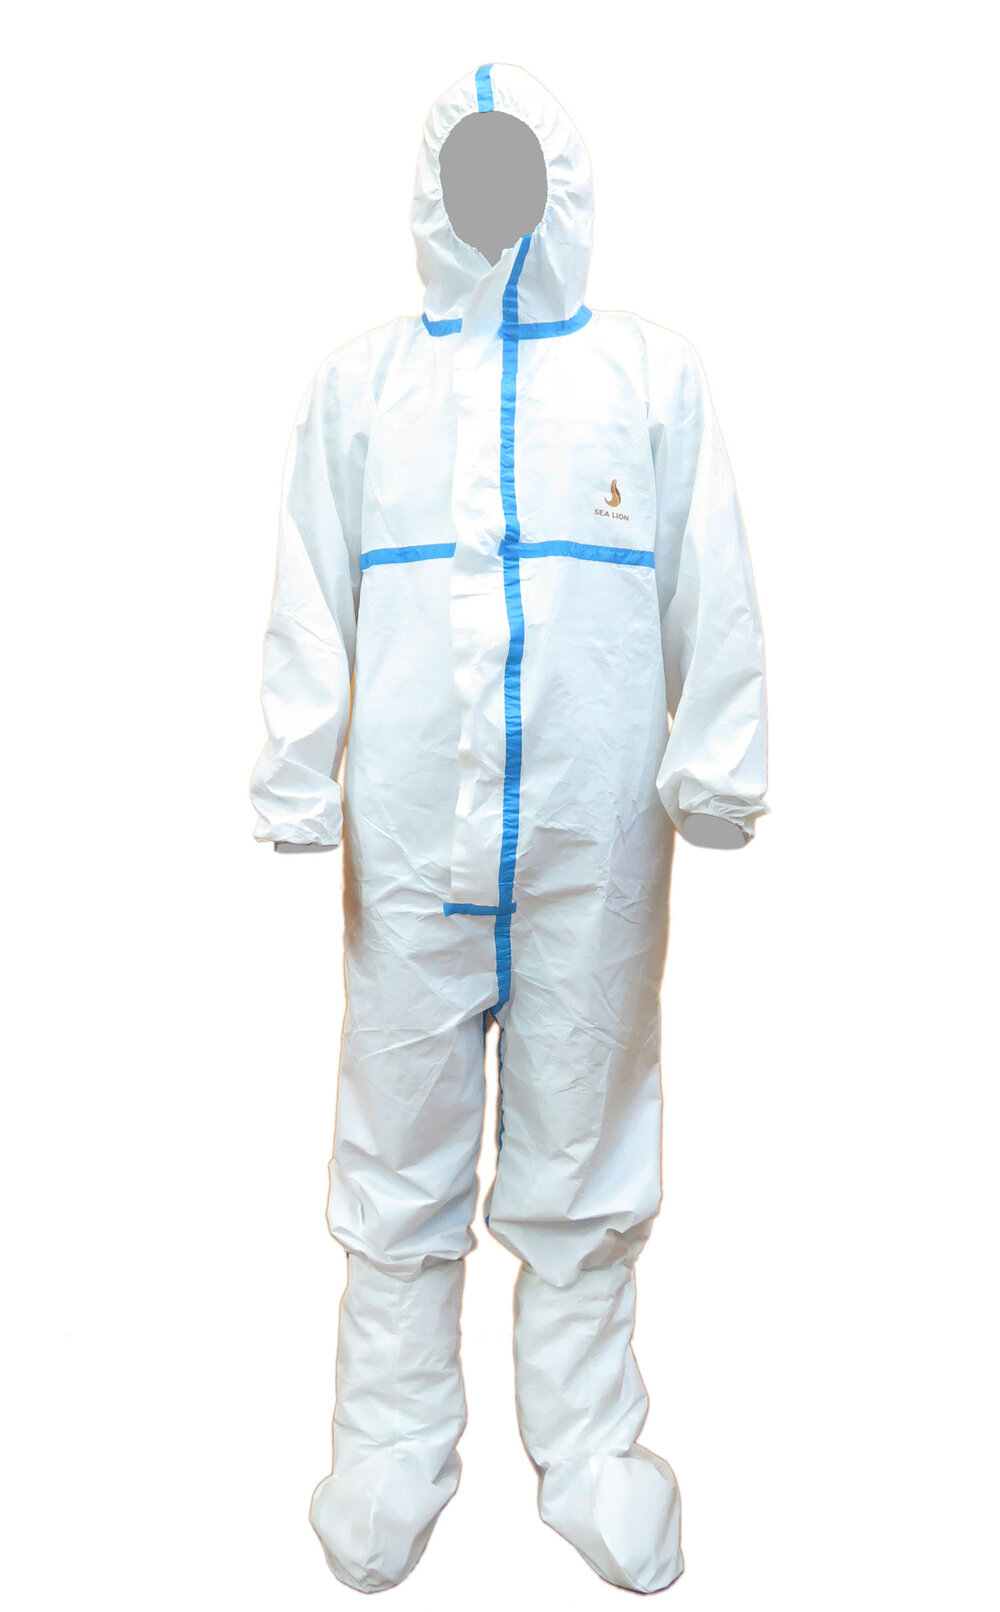Coverall: (253, 61, 774, 1457)
